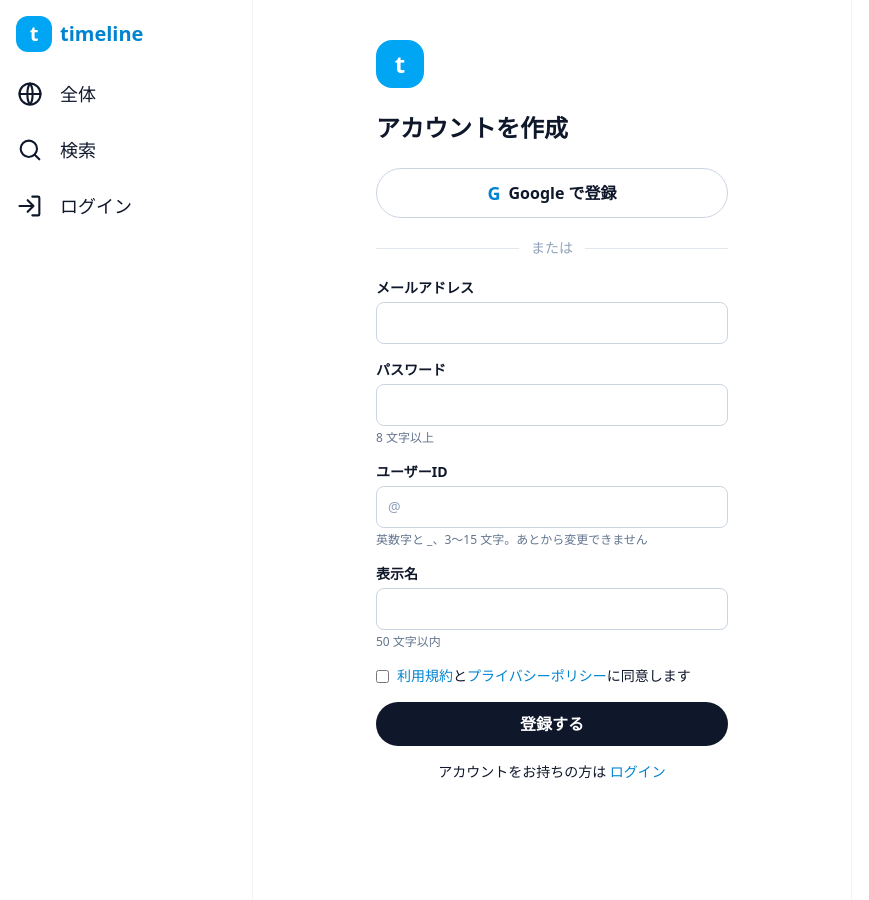
Test case: 新規登録画面 › 入力に誤りがあると送信せずにエラーを表示する
In the field labelled "ユーザーID": [552, 507] box top-left (376, 486), bottom-right (728, 528), type "ab"
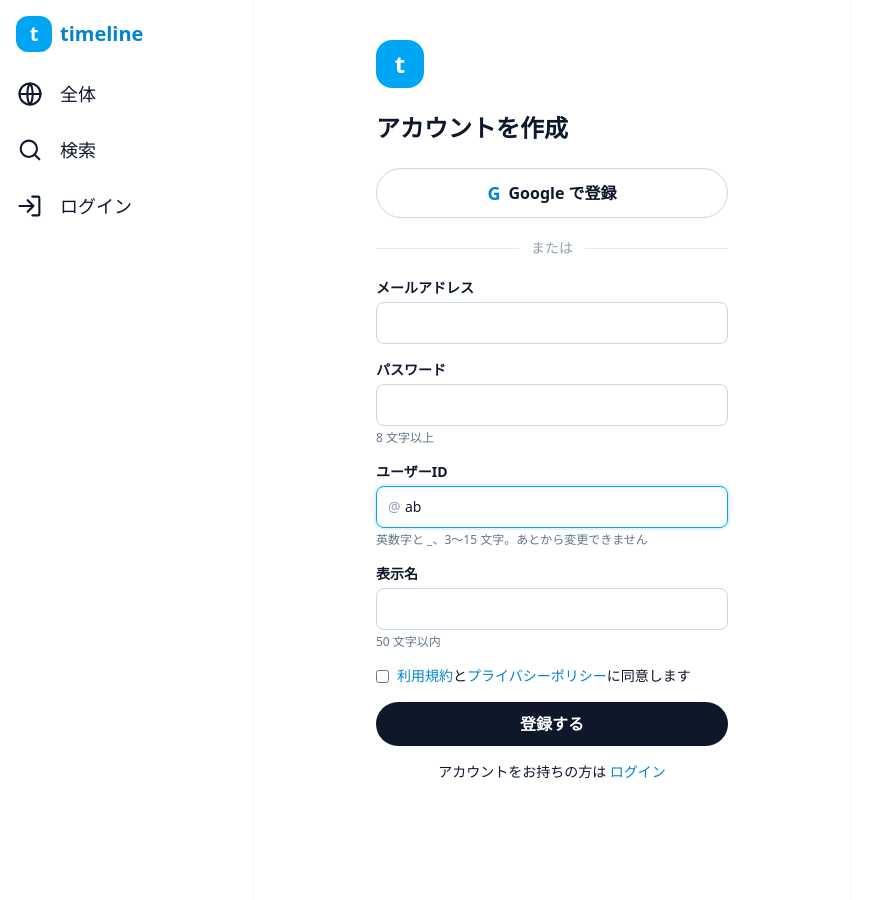
Click the button "登録する": [552, 724] box top-left (376, 702), bottom-right (728, 746)
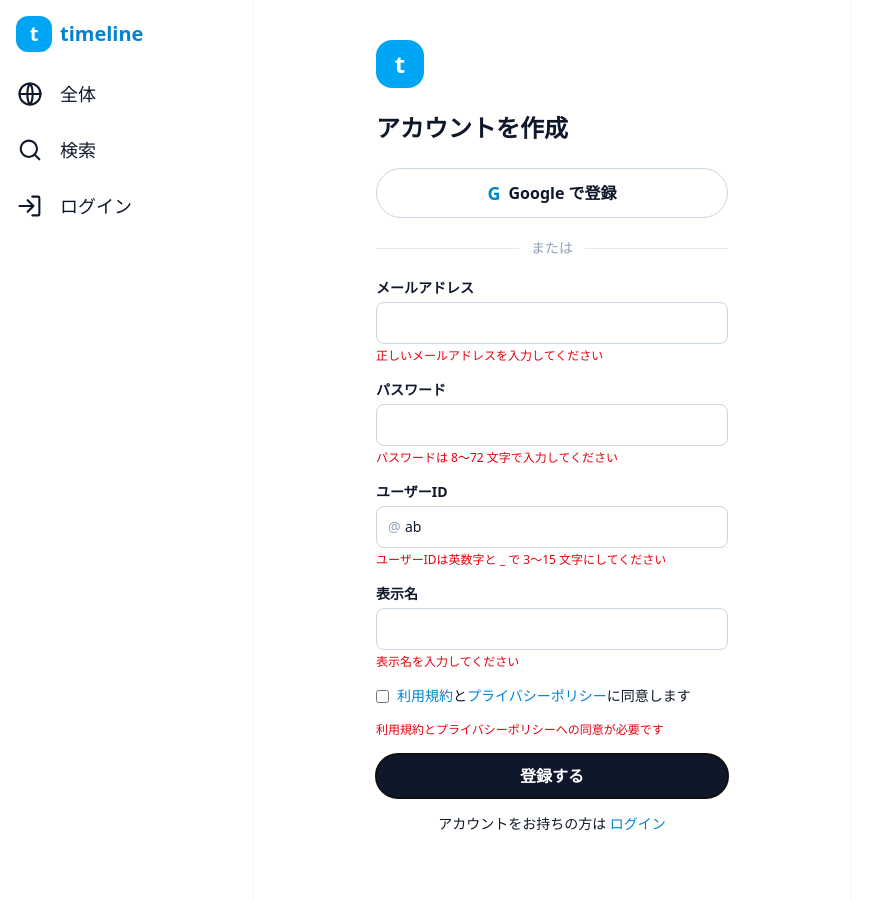
Expected: the text "ユーザーIDは英数字と _ で 3〜15 文字にしてください" is shown, top-left (376, 551), bottom-right (666, 568)
Expected: the text "利用規約とプライバシーポリシーへの同意が必要です" is shown, top-left (376, 721), bottom-right (664, 738)
